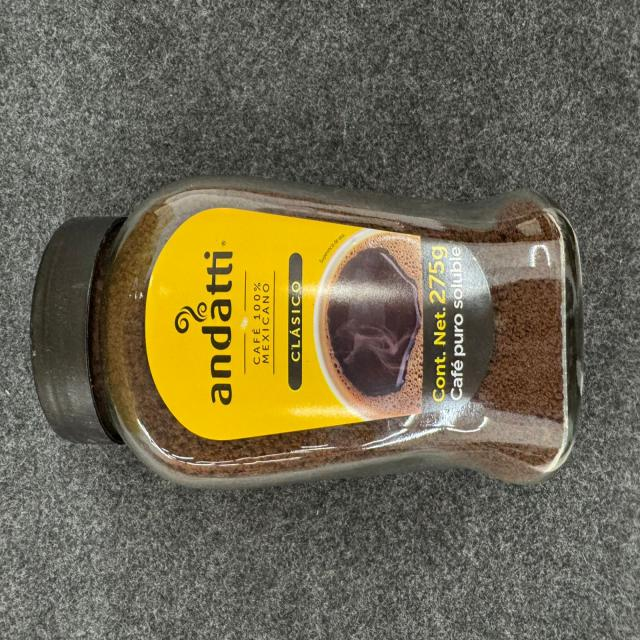Cafe Soluble Andatti 275g: (28, 179, 587, 491)
